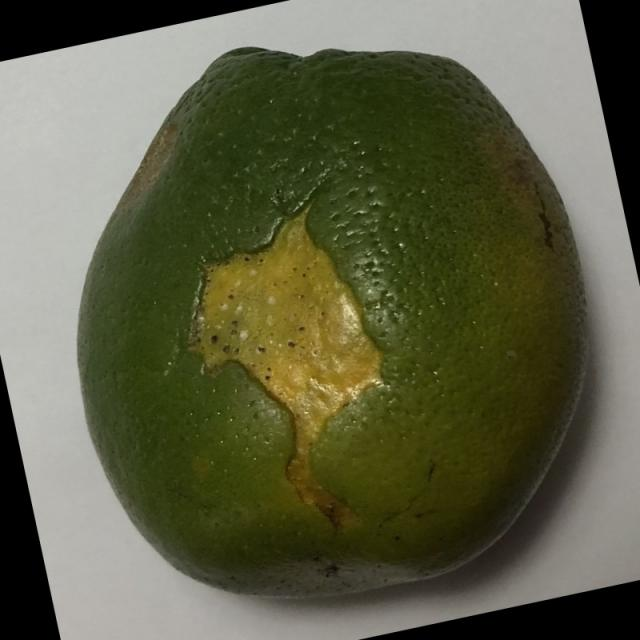canker: (46, 24, 618, 621)
